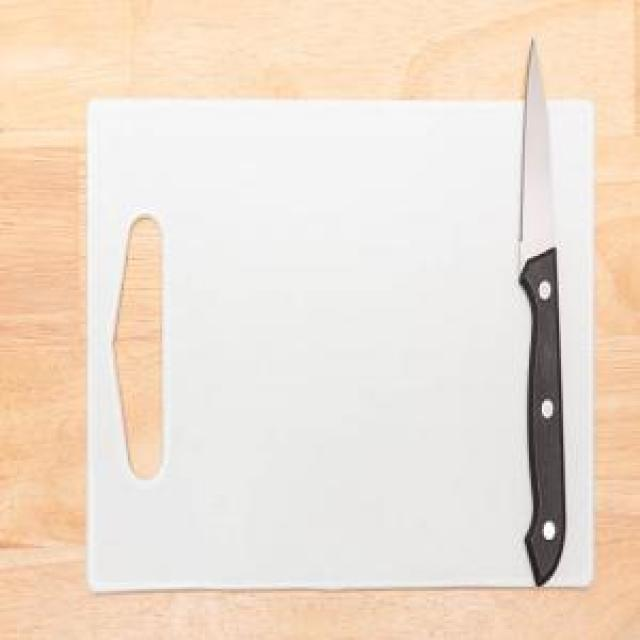knife: (520, 32, 568, 596)
